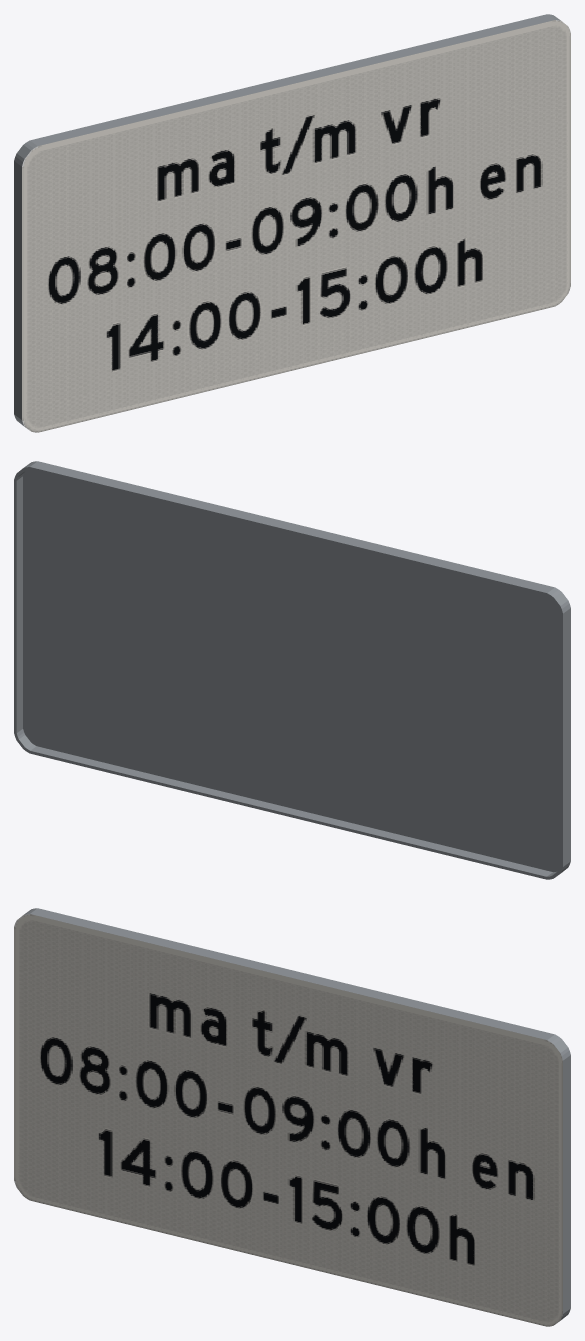
3 renders of one model, top to bottom at view 1: azimuth 30°, elevation 25°; view 2: azimuth 150°, elevation 25°; view 3: azimuth 330°, elevation 25°, orthographic.
Parts seen in each view (by area): view 1: cat_f0af0b298ce73f05; view 2: cat_f0af0b298ce73f05; view 3: cat_f0af0b298ce73f05.
Part boxes in pixels (left/top/right/bottom): cat_f0af0b298ce73f05: left=14, top=14, right=570, bottom=432; cat_f0af0b298ce73f05: left=14, top=461, right=570, bottom=879; cat_f0af0b298ce73f05: left=14, top=908, right=570, bottom=1326.
Bounding box in the file's own units: 0.6 × 0.015 × 0.2993.
Materials: 2 (1 with a texture image).
